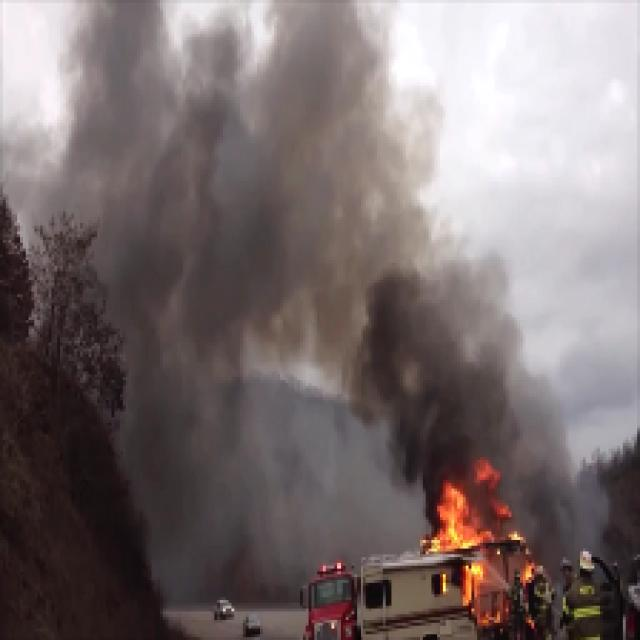fire: (438, 463, 532, 628)
smoke: (71, 12, 568, 454)
